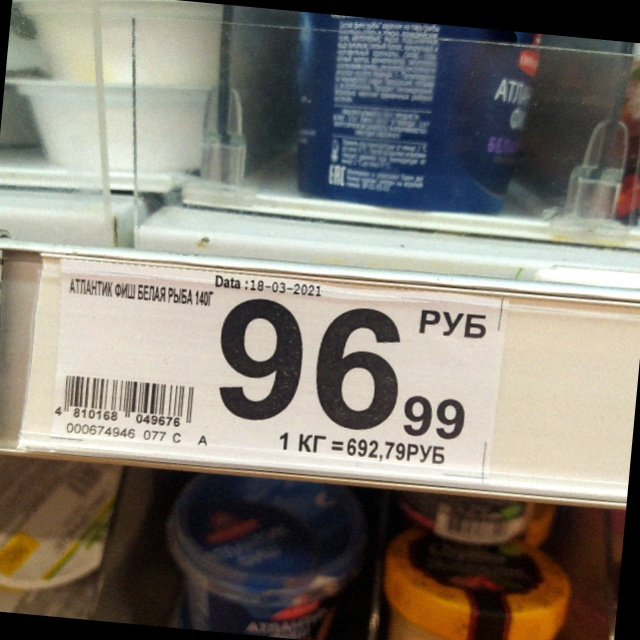barcode: (53, 372, 199, 431)
name: (66, 273, 214, 313)
price: (217, 297, 469, 439)
price_tag: (52, 254, 506, 481)
